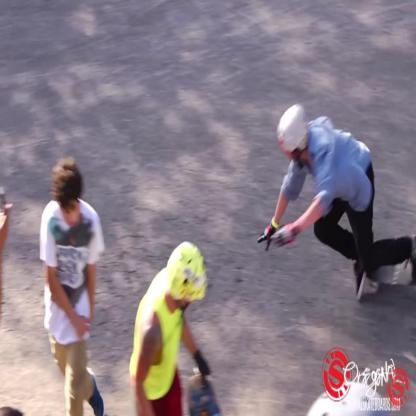Fall_Down: (258, 103, 416, 301)
